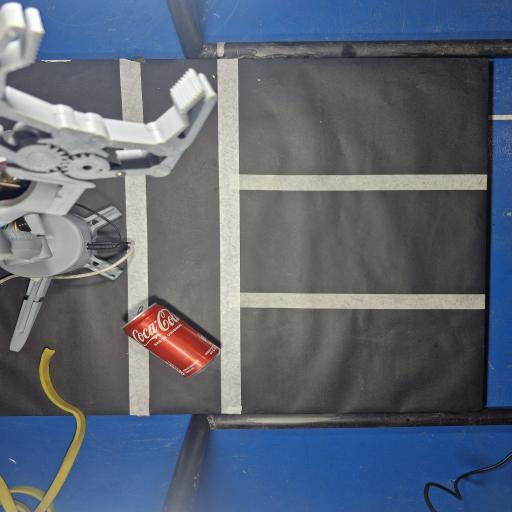lata: (123, 303, 219, 377)
